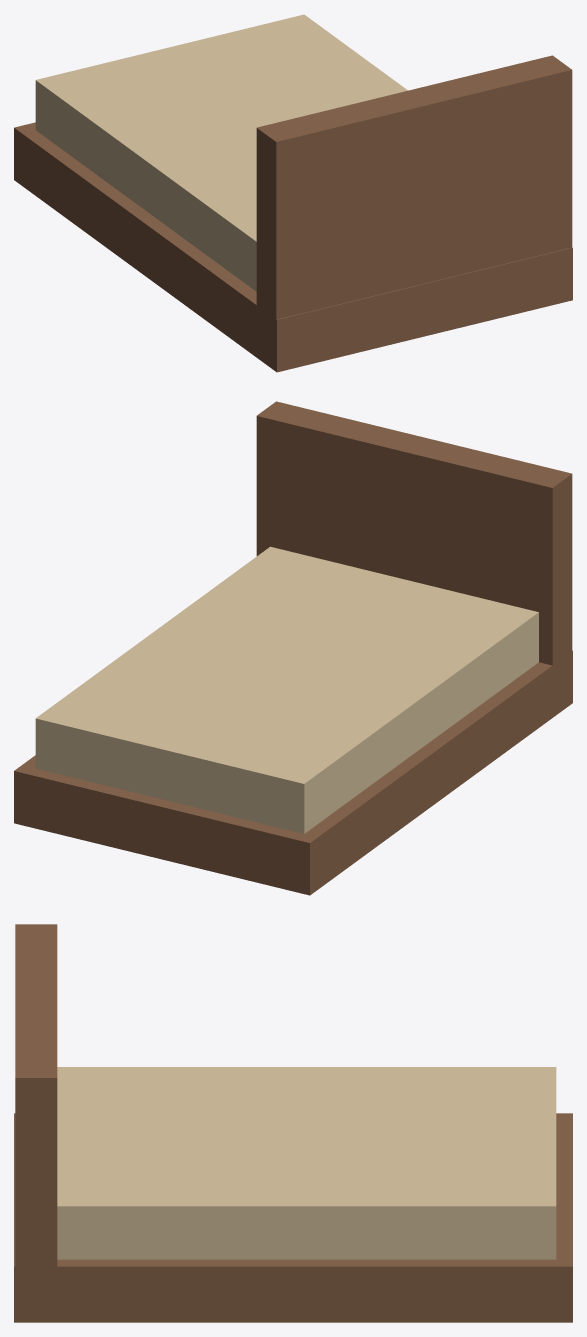
File: bed.glb
3 renders of one model, top to bottom at view 1: azimuth 30°, elevation 25°; view 2: azimuth 150°, elevation 25°; view 3: azimuth 270°, elevation 25°, orthographic. The views are drawn at different scales.
Parts seen in each view (by area): view 1: bed; view 2: bed; view 3: bed.
Part boxes in pixels (box(x1,y1,x2,y2)): bed: box(14, 14, 572, 372); bed: box(14, 401, 572, 895); bed: box(14, 924, 572, 1322).
Bounding box in the file's own units: 1.3 × 0.965 × 2.
